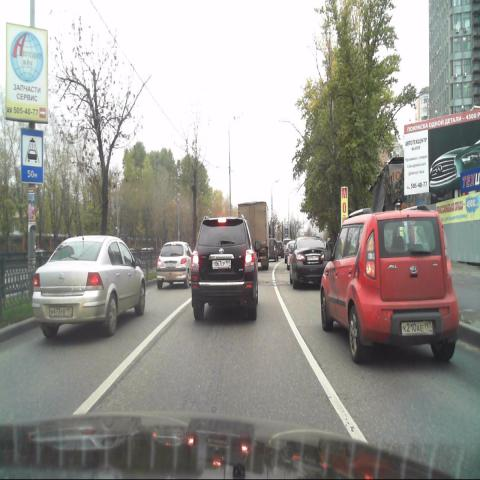7_5: (20, 127, 44, 185)
